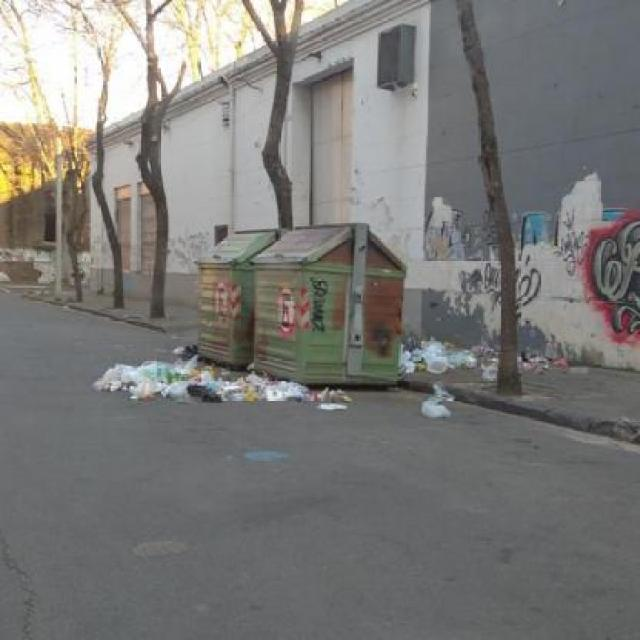garbage: (63, 328, 298, 416), (400, 331, 602, 392), (414, 391, 491, 440)
